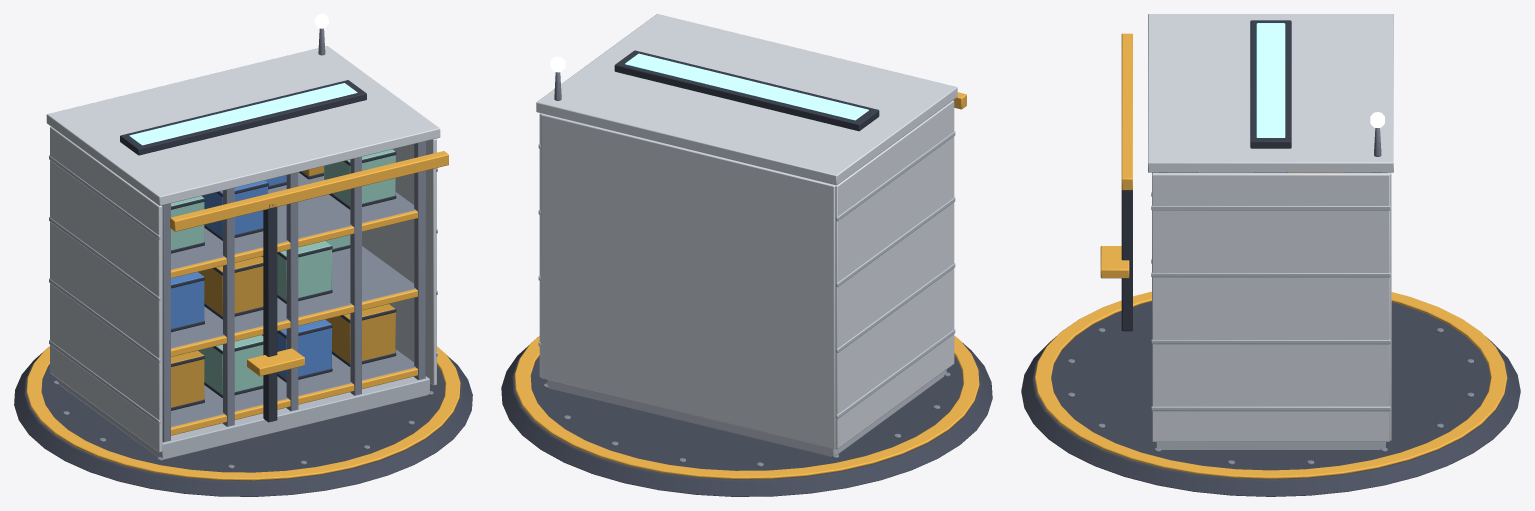
Rendered from prod.fbx.
The picture shows the model from 3 angles, left to right: view 1: azimuth 30°, elevation 25°; view 2: azimuth 150°, elevation 25°; view 3: azimuth 270°, elevation 25°; orthographic projection. The views are drawn at different scales.
Visible parts, largest first — view 1: prod_Koerper; view 2: prod_Koerper; view 3: prod_Koerper.
Part boxes in pixels (<box>): prod_Koerper: <box>14,14,472,496</box>; prod_Koerper: <box>501,14,992,496</box>; prod_Koerper: <box>1021,14,1520,496</box>.
Bounding box in the file's own units: 6.09 × 4.66 × 6.09.
